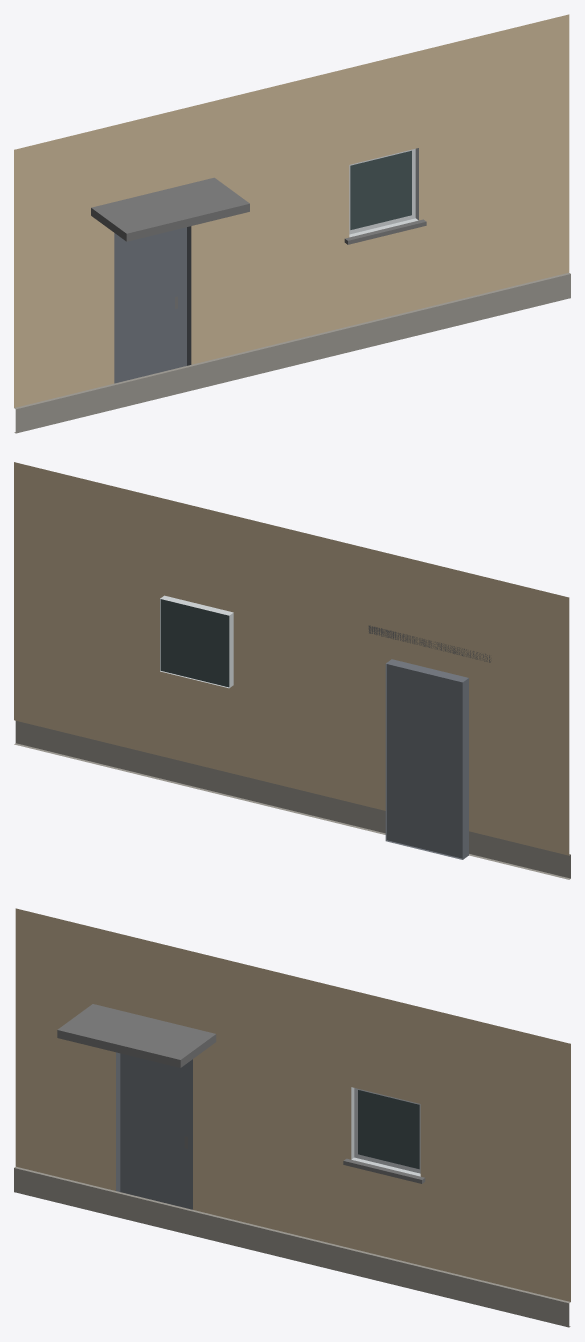
3 views of the same model, one above another, from view 1: azimuth 30°, elevation 25°; view 2: azimuth 150°, elevation 25°; view 3: azimuth 330°, elevation 25° (orthographic).
Parts seen in each view (by area): view 1: a2009/200/base-w3; view 2: a2009/200/base-w3; view 3: a2009/200/base-w3.
Part boxes in pixels (x1,y1,x2,y2): a2009/200/base-w3: [14, 14, 570, 433]; a2009/200/base-w3: [14, 462, 570, 879]; a2009/200/base-w3: [14, 908, 570, 1327].
Bounding box in the file's own units: 7.2 × 3.5 × 0.94.
